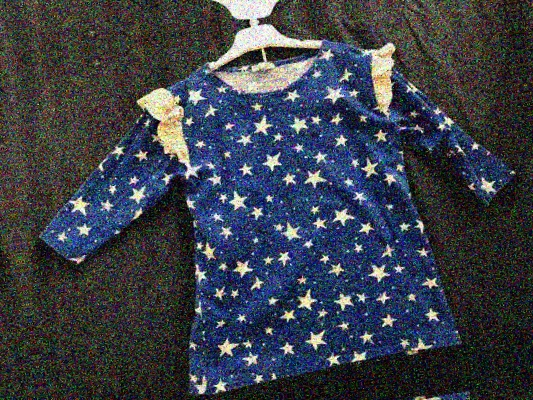Dress: (16, 0, 526, 400), (0, 0, 468, 52), (76, 369, 533, 400), (0, 77, 19, 400)
